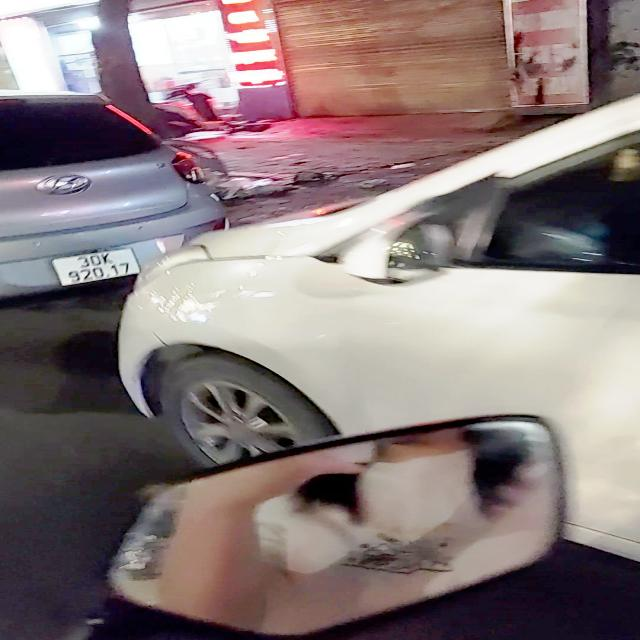license_plate: (46, 247, 149, 290)
